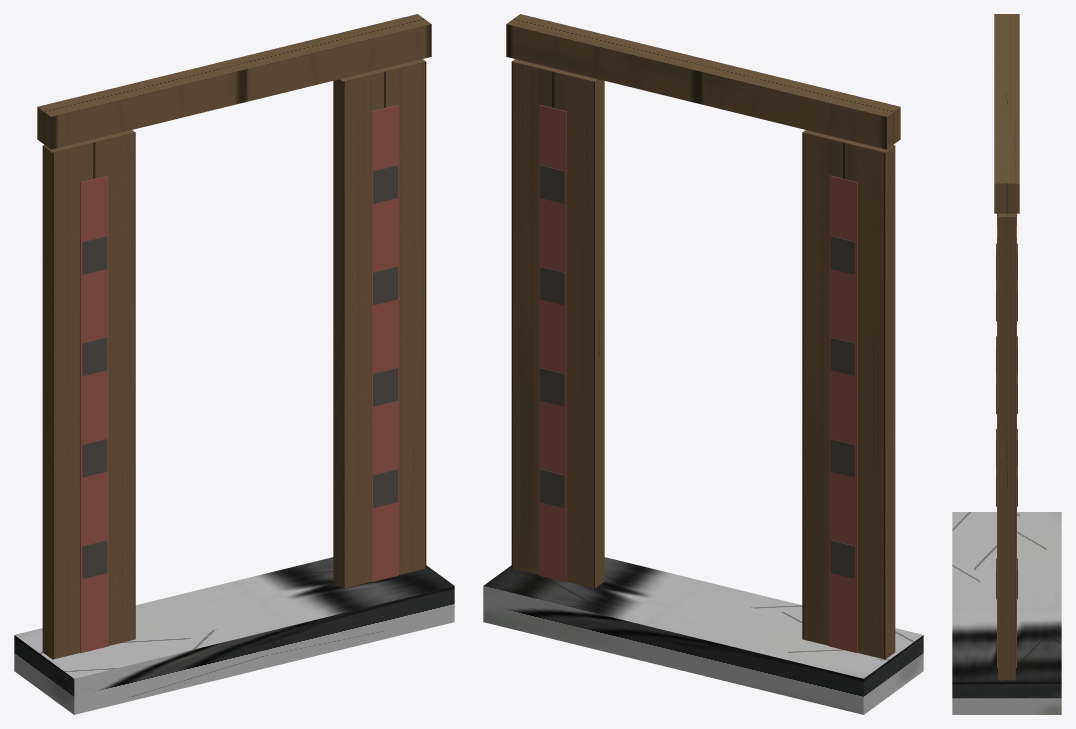
The model's file is mieu-hoang-cau-doi-go-muc.glb.
3 views of the same model, side by side, from view 1: azimuth 30°, elevation 25°; view 2: azimuth 150°, elevation 25°; view 3: azimuth 270°, elevation 25° (orthographic). The views are drawn at different scales.
Visible parts, largest first — view 1: mieu-hoang-cau-doi-go-muc; view 2: mieu-hoang-cau-doi-go-muc; view 3: mieu-hoang-cau-doi-go-muc.
Boxes of the visible parts, box(x1,y1,x2,y2) form: mieu-hoang-cau-doi-go-muc: box(14, 14, 454, 714); mieu-hoang-cau-doi-go-muc: box(483, 14, 923, 714); mieu-hoang-cau-doi-go-muc: box(952, 14, 1061, 714).
Size of the model in its own units: 1.1 by 1.6 by 0.3.
Materials: 4 (2 with a texture image).
